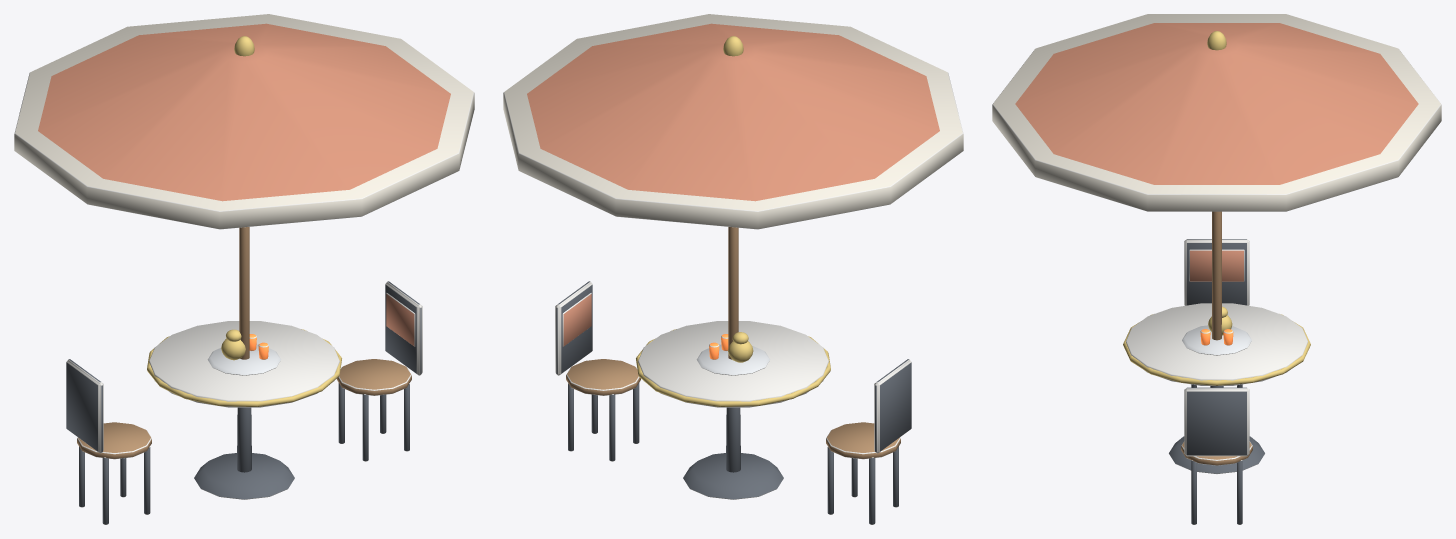
The model's file is OW_TeaGardenSet.fbx.
3 views of the same model, side by side, from view 1: azimuth 30°, elevation 25°; view 2: azimuth 150°, elevation 25°; view 3: azimuth 270°, elevation 25° (orthographic). The views are drawn at different scales.
Visible parts, largest first — view 1: OW_TeaGardenSet; view 2: OW_TeaGardenSet; view 3: OW_TeaGardenSet.
Boxes of the visible parts, left/top/right/bottom form: OW_TeaGardenSet: left=14, top=14, right=474, bottom=524; OW_TeaGardenSet: left=503, top=14, right=963, bottom=524; OW_TeaGardenSet: left=992, top=14, right=1441, bottom=524.
Bounding box in the file's own units: 262 × 286 × 276.
